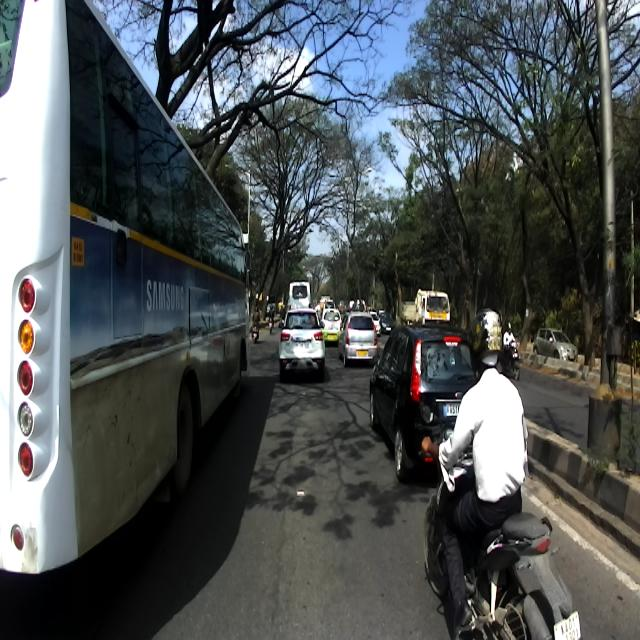bus ahead at: (0, 0, 253, 577)
car ahead at: (364, 316, 485, 482), (278, 303, 332, 376)
motorcycle ahead at: (413, 498, 585, 640)
